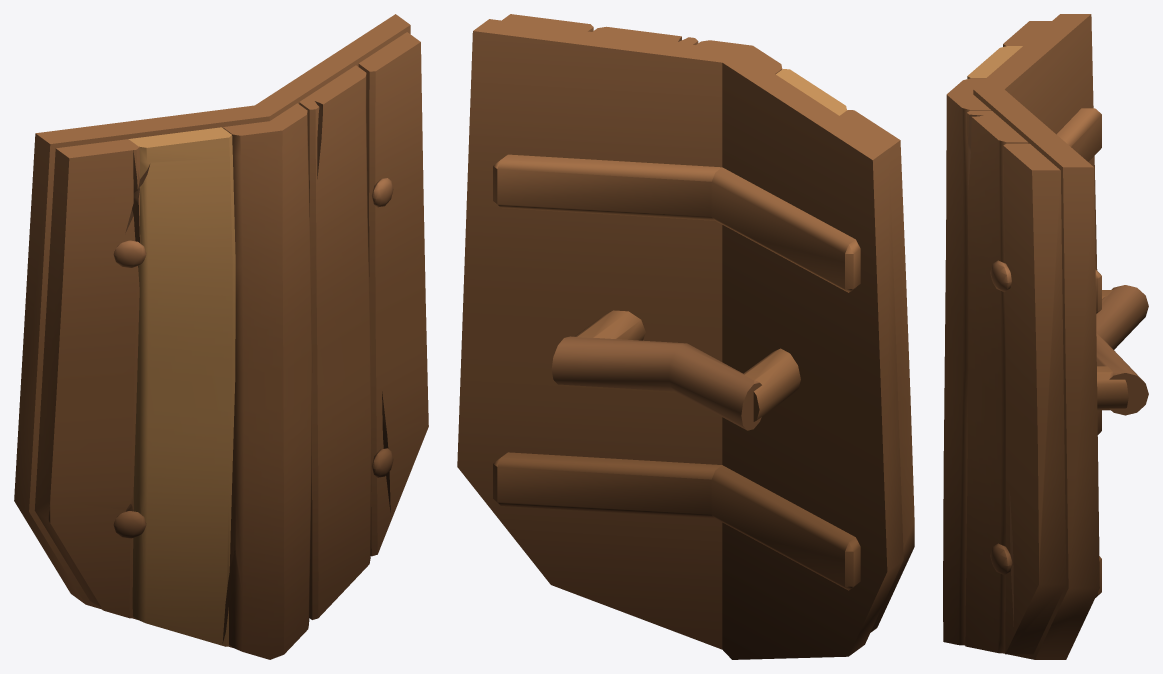
Rendered from shield_wood_simple.glb.
The picture shows the model from 3 angles, left to right: view 1: azimuth 30°, elevation 25°; view 2: azimuth 150°, elevation 25°; view 3: azimuth 270°, elevation 25°; orthographic projection. The views are drawn at different scales.
Visible parts, largest first — view 1: Item; view 2: Item; view 3: Item.
Part boxes in pixels (<box>): Item: <box>14,14,428,659</box>; Item: <box>457,14,914,659</box>; Item: <box>943,14,1148,659</box>.
Size of the model in its own units: 0.68 by 0.92 by 0.2967.
Materials: 2 (2 with a texture image).
